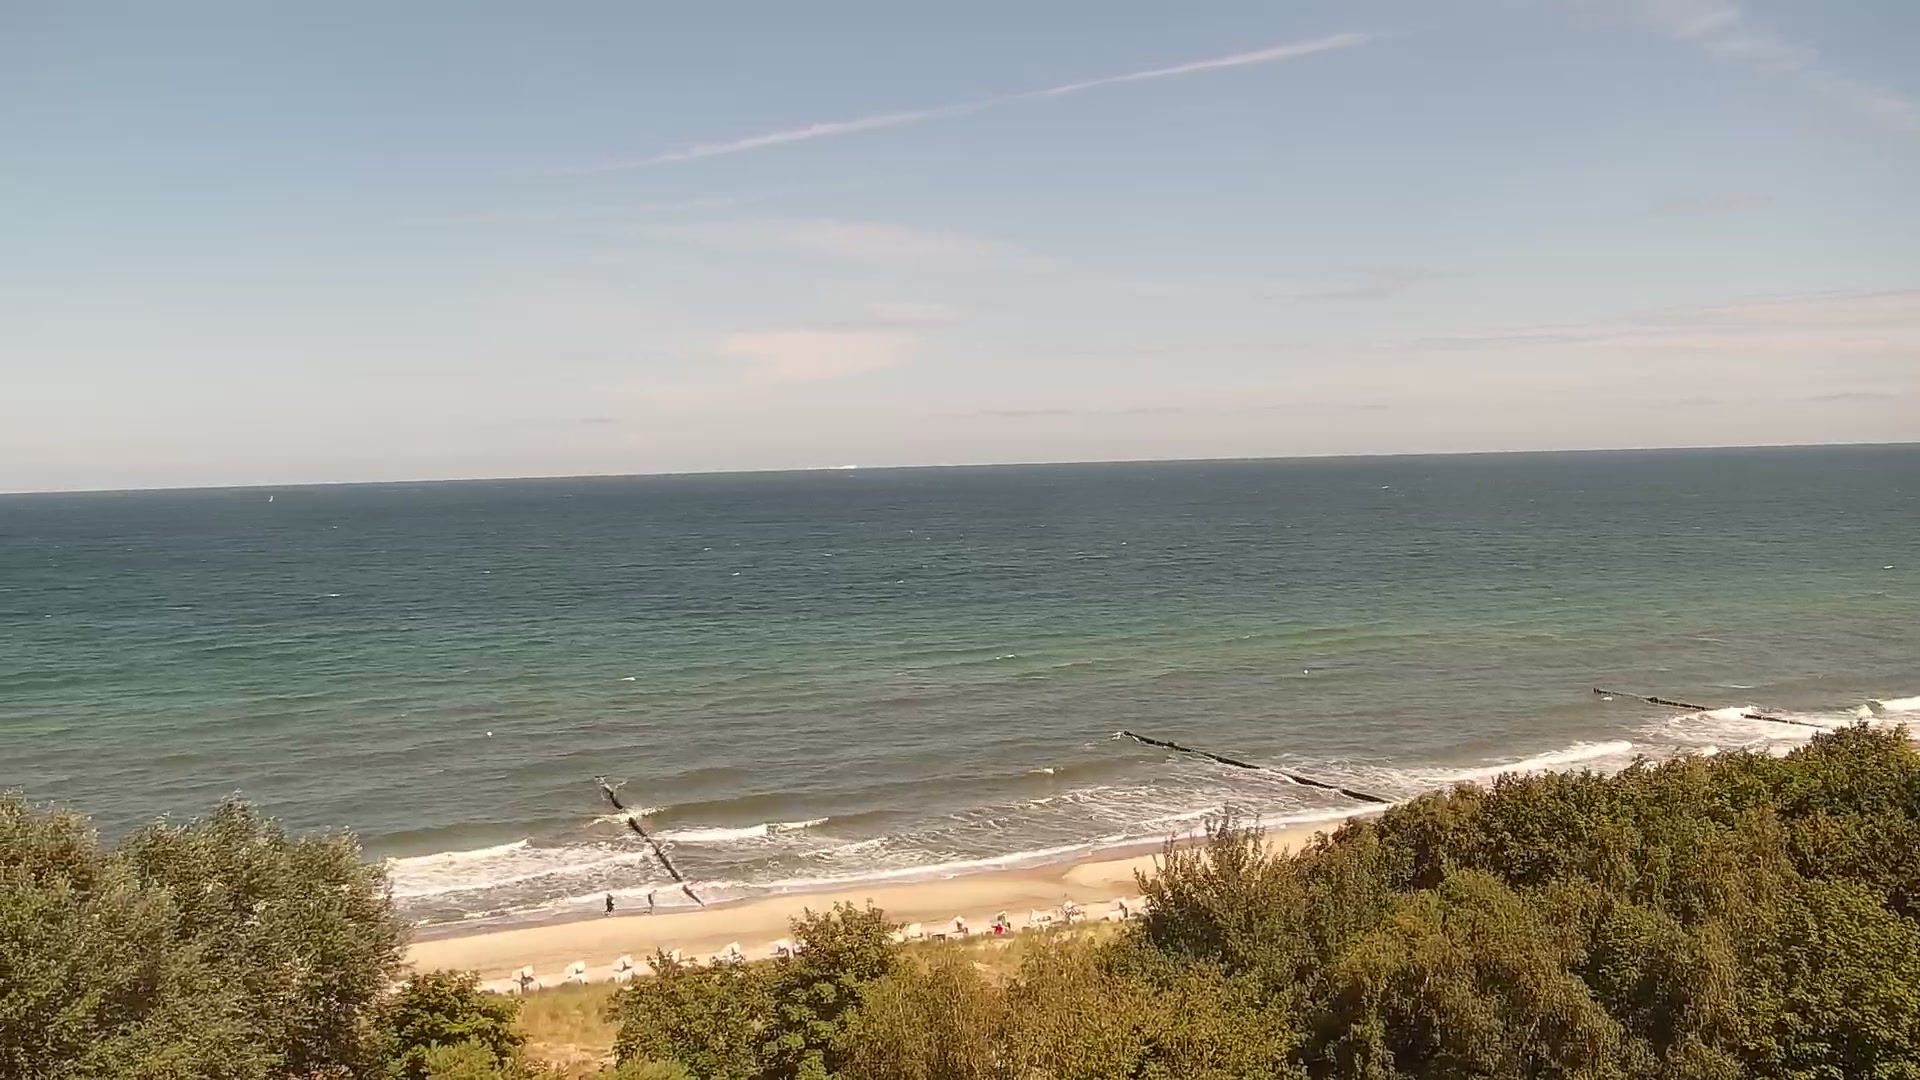human: (646, 888, 656, 914), (991, 922, 1003, 934), (605, 893, 612, 913), (609, 895, 615, 914)
sea: (268, 495, 274, 504)
